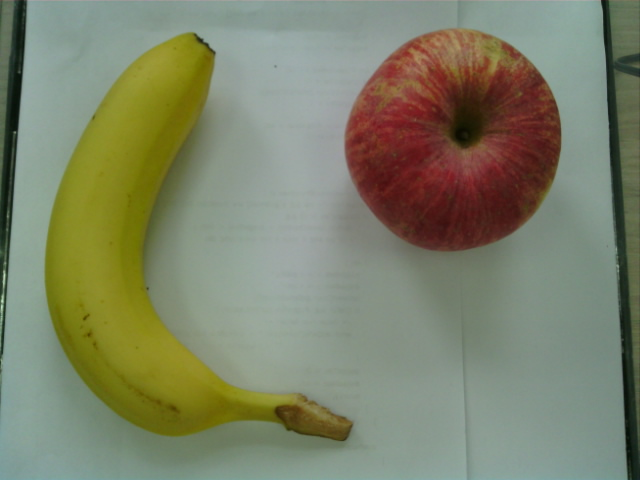fresh_banana: (44, 31, 350, 439)
normal_apple: (348, 29, 564, 253)
